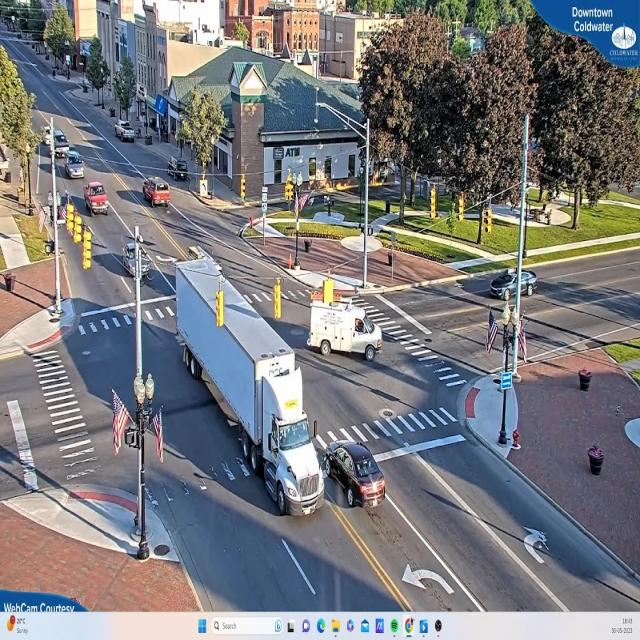car: (327, 440, 386, 509), (491, 270, 536, 302), (122, 237, 150, 276), (143, 179, 174, 208), (84, 183, 109, 215), (117, 122, 137, 145)
truck: (243, 338, 326, 520), (309, 302, 383, 361)
